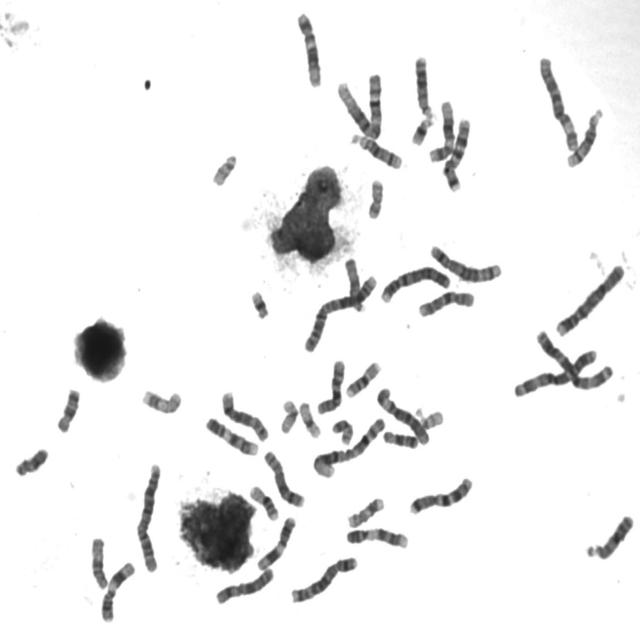A1: (311, 414, 387, 477), (334, 69, 385, 141)
A2: (301, 271, 380, 355), (133, 459, 164, 575)
A3: (533, 325, 616, 392), (512, 345, 600, 399)
B4: (552, 259, 626, 339), (378, 262, 452, 304)
B5: (288, 552, 359, 606), (427, 241, 504, 284)
C10: (314, 355, 347, 417), (415, 287, 477, 319)
C11: (254, 513, 298, 572), (98, 558, 137, 624)
C12: (294, 8, 324, 88), (426, 96, 456, 164)
C6: (536, 52, 581, 153), (374, 383, 431, 448)
C7: (407, 472, 475, 517), (440, 114, 473, 194)
C8: (219, 387, 271, 443), (261, 446, 307, 509)
C9: (202, 413, 260, 458), (343, 524, 410, 551)
D13: (582, 510, 636, 561), (411, 52, 435, 120)
D14: (564, 104, 606, 170), (348, 130, 404, 171)
D15: (342, 255, 366, 314), (88, 533, 110, 592)
E16: (343, 357, 383, 400), (246, 482, 280, 522)
E17: (138, 385, 184, 417), (345, 494, 386, 529)
E18: (53, 384, 82, 434), (379, 427, 422, 450)
F19: (297, 398, 323, 440), (277, 396, 300, 434)
F20: (364, 175, 386, 221), (329, 415, 355, 447)
G21: (408, 114, 436, 148), (248, 287, 271, 321)
G22: (209, 150, 238, 188), (417, 406, 445, 432)
X: (213, 564, 276, 606)
